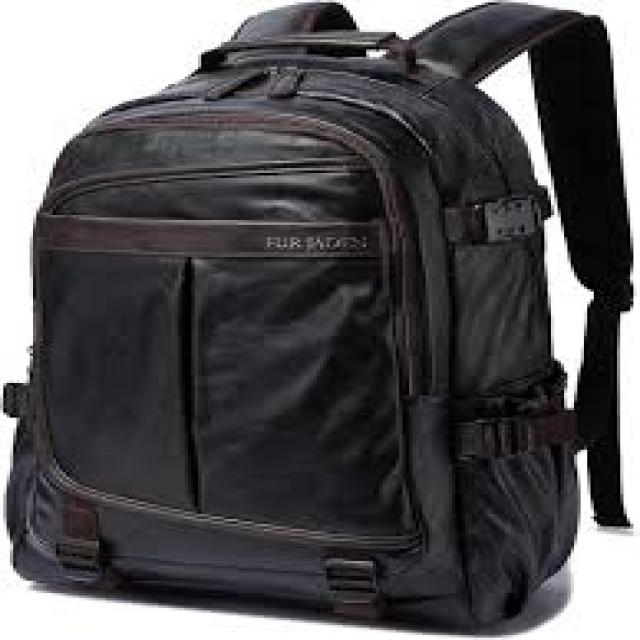backpack: (1, 1, 634, 633)
